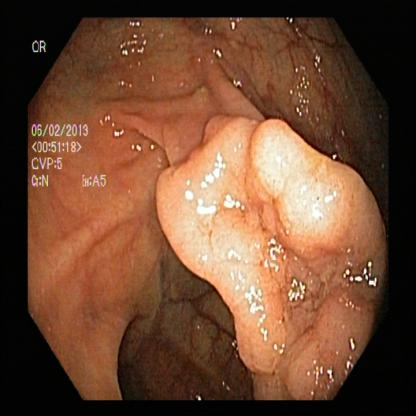Labels: (30, 35, 110, 190)
Polyps: (170, 118, 360, 300)
